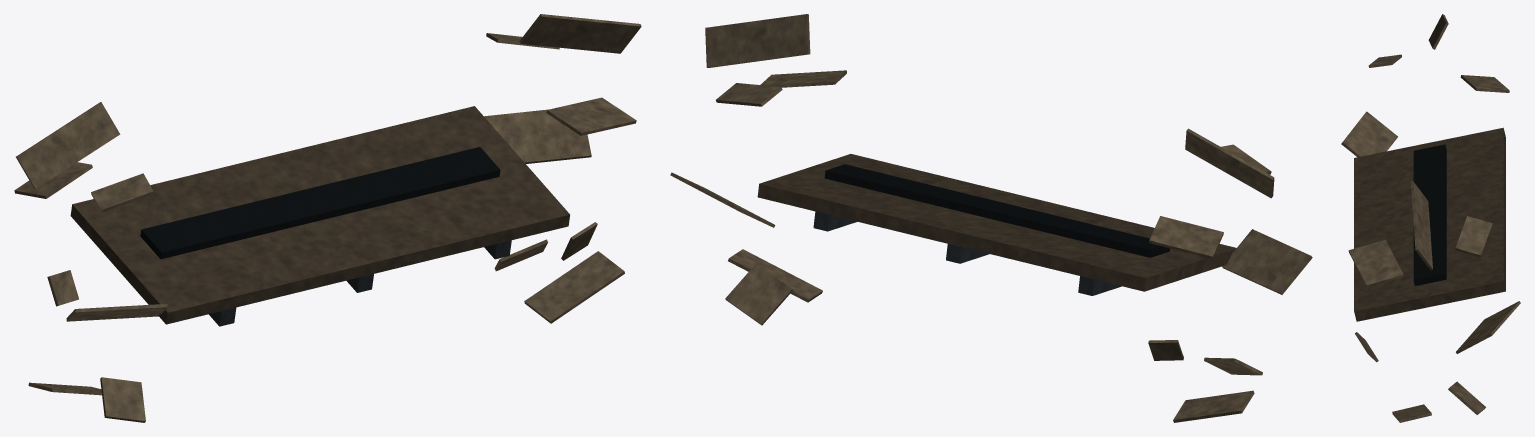
Rendered from deb_liner_hull_panel.glb.
The picture shows the model from 3 angles, left to right: view 1: azimuth 30°, elevation 25°; view 2: azimuth 150°, elevation 25°; view 3: azimuth 270°, elevation 25°; orthographic projection. The views are drawn at different scales.
Parts seen in each view (by area): view 1: LOD0_deb_liner_hull_panel_Material_Hull, LOD0_deb_liner_hull_panel_Material_Insulation, LOD2_deb_liner_hull_panel_Material_Hull, LOD0_deb_liner_hull_panel_Material_Glass, LOD0_deb_liner_hull_panel_Material_Structural; view 2: LOD0_deb_liner_hull_panel_Material_Insulation, LOD0_deb_liner_hull_panel_Material_Hull, LOD0_deb_liner_hull_panel_Material_Glass, LOD1_deb_liner_hull_panel_Material_Hull, LOD0_deb_liner_hull_panel_Material_Structural, LOD1_deb_liner_hull_panel_Material_Glass, LOD2_deb_liner_hull_panel_Material_Hull; view 3: LOD0_deb_liner_hull_panel_Material_Hull, LOD0_deb_liner_hull_panel_Material_Insulation, LOD2_deb_liner_hull_panel_Material_Hull, LOD0_deb_liner_hull_panel_Material_Glass, LOD1_deb_liner_hull_panel_Material_Hull, LOD1_deb_liner_hull_panel_Material_Glass.
Boxes of the visible parts, box(x1,y1,x2,y2) form: LOD0_deb_liner_hull_panel_Material_Hull: box(70, 106, 569, 324); LOD0_deb_liner_hull_panel_Material_Insulation: box(14, 14, 641, 422); LOD2_deb_liner_hull_panel_Material_Hull: box(134, 107, 569, 256); LOD0_deb_liner_hull_panel_Material_Glass: box(140, 147, 500, 259); LOD0_deb_liner_hull_panel_Material_Structural: box(209, 240, 511, 326); LOD0_deb_liner_hull_panel_Material_Insulation: box(670, 14, 1312, 422); LOD0_deb_liner_hull_panel_Material_Hull: box(757, 154, 1236, 291); LOD0_deb_liner_hull_panel_Material_Glass: box(824, 164, 1170, 257); LOD1_deb_liner_hull_panel_Material_Hull: box(758, 184, 1140, 283); LOD0_deb_liner_hull_panel_Material_Structural: box(813, 211, 1121, 295); LOD1_deb_liner_hull_panel_Material_Glass: box(825, 170, 1144, 252); LOD2_deb_liner_hull_panel_Material_Hull: box(761, 154, 1037, 232); LOD0_deb_liner_hull_panel_Material_Hull: box(1354, 127, 1505, 321); LOD0_deb_liner_hull_panel_Material_Insulation: box(1341, 14, 1520, 422); LOD2_deb_liner_hull_panel_Material_Hull: box(1354, 143, 1502, 310); LOD0_deb_liner_hull_panel_Material_Glass: box(1413, 144, 1446, 285); LOD1_deb_liner_hull_panel_Material_Hull: box(1503, 133, 1505, 288); LOD1_deb_liner_hull_panel_Material_Glass: box(1445, 176, 1446, 275).
Size of the model in its own units: 28.7 by 13.52 by 9.4.
4 materials, 4 textured.
